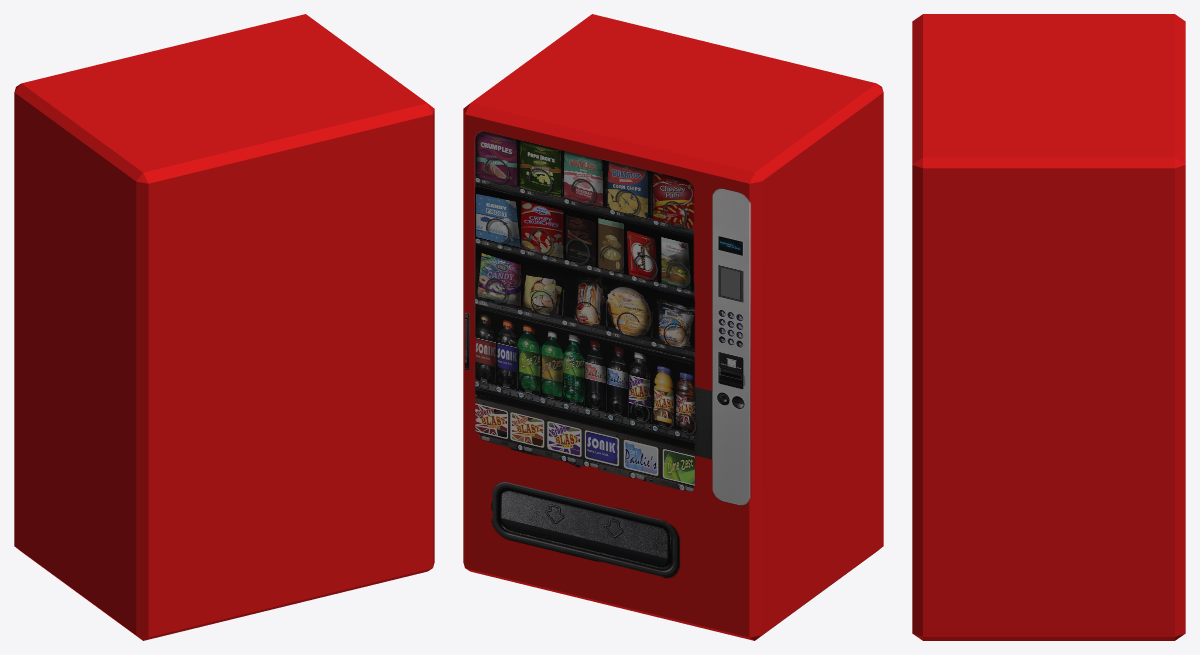
The model's file is Vending machine 00.fbx.
The picture shows the model from 3 angles, left to right: view 1: azimuth 30°, elevation 25°; view 2: azimuth 150°, elevation 25°; view 3: azimuth 270°, elevation 25°; orthographic projection. The views are drawn at different scales.
Parts seen in each view (by area): view 1: vending_machine_01; view 2: vending_machine_01; view 3: vending_machine_01.
Part boxes in pixels (<box>): vending_machine_01: <box>14,14,434,640</box>; vending_machine_01: <box>463,14,883,640</box>; vending_machine_01: <box>912,14,1185,640</box>.
Size of the model in its own units: 310 by 466 by 239.
1 material, 1 textured.
